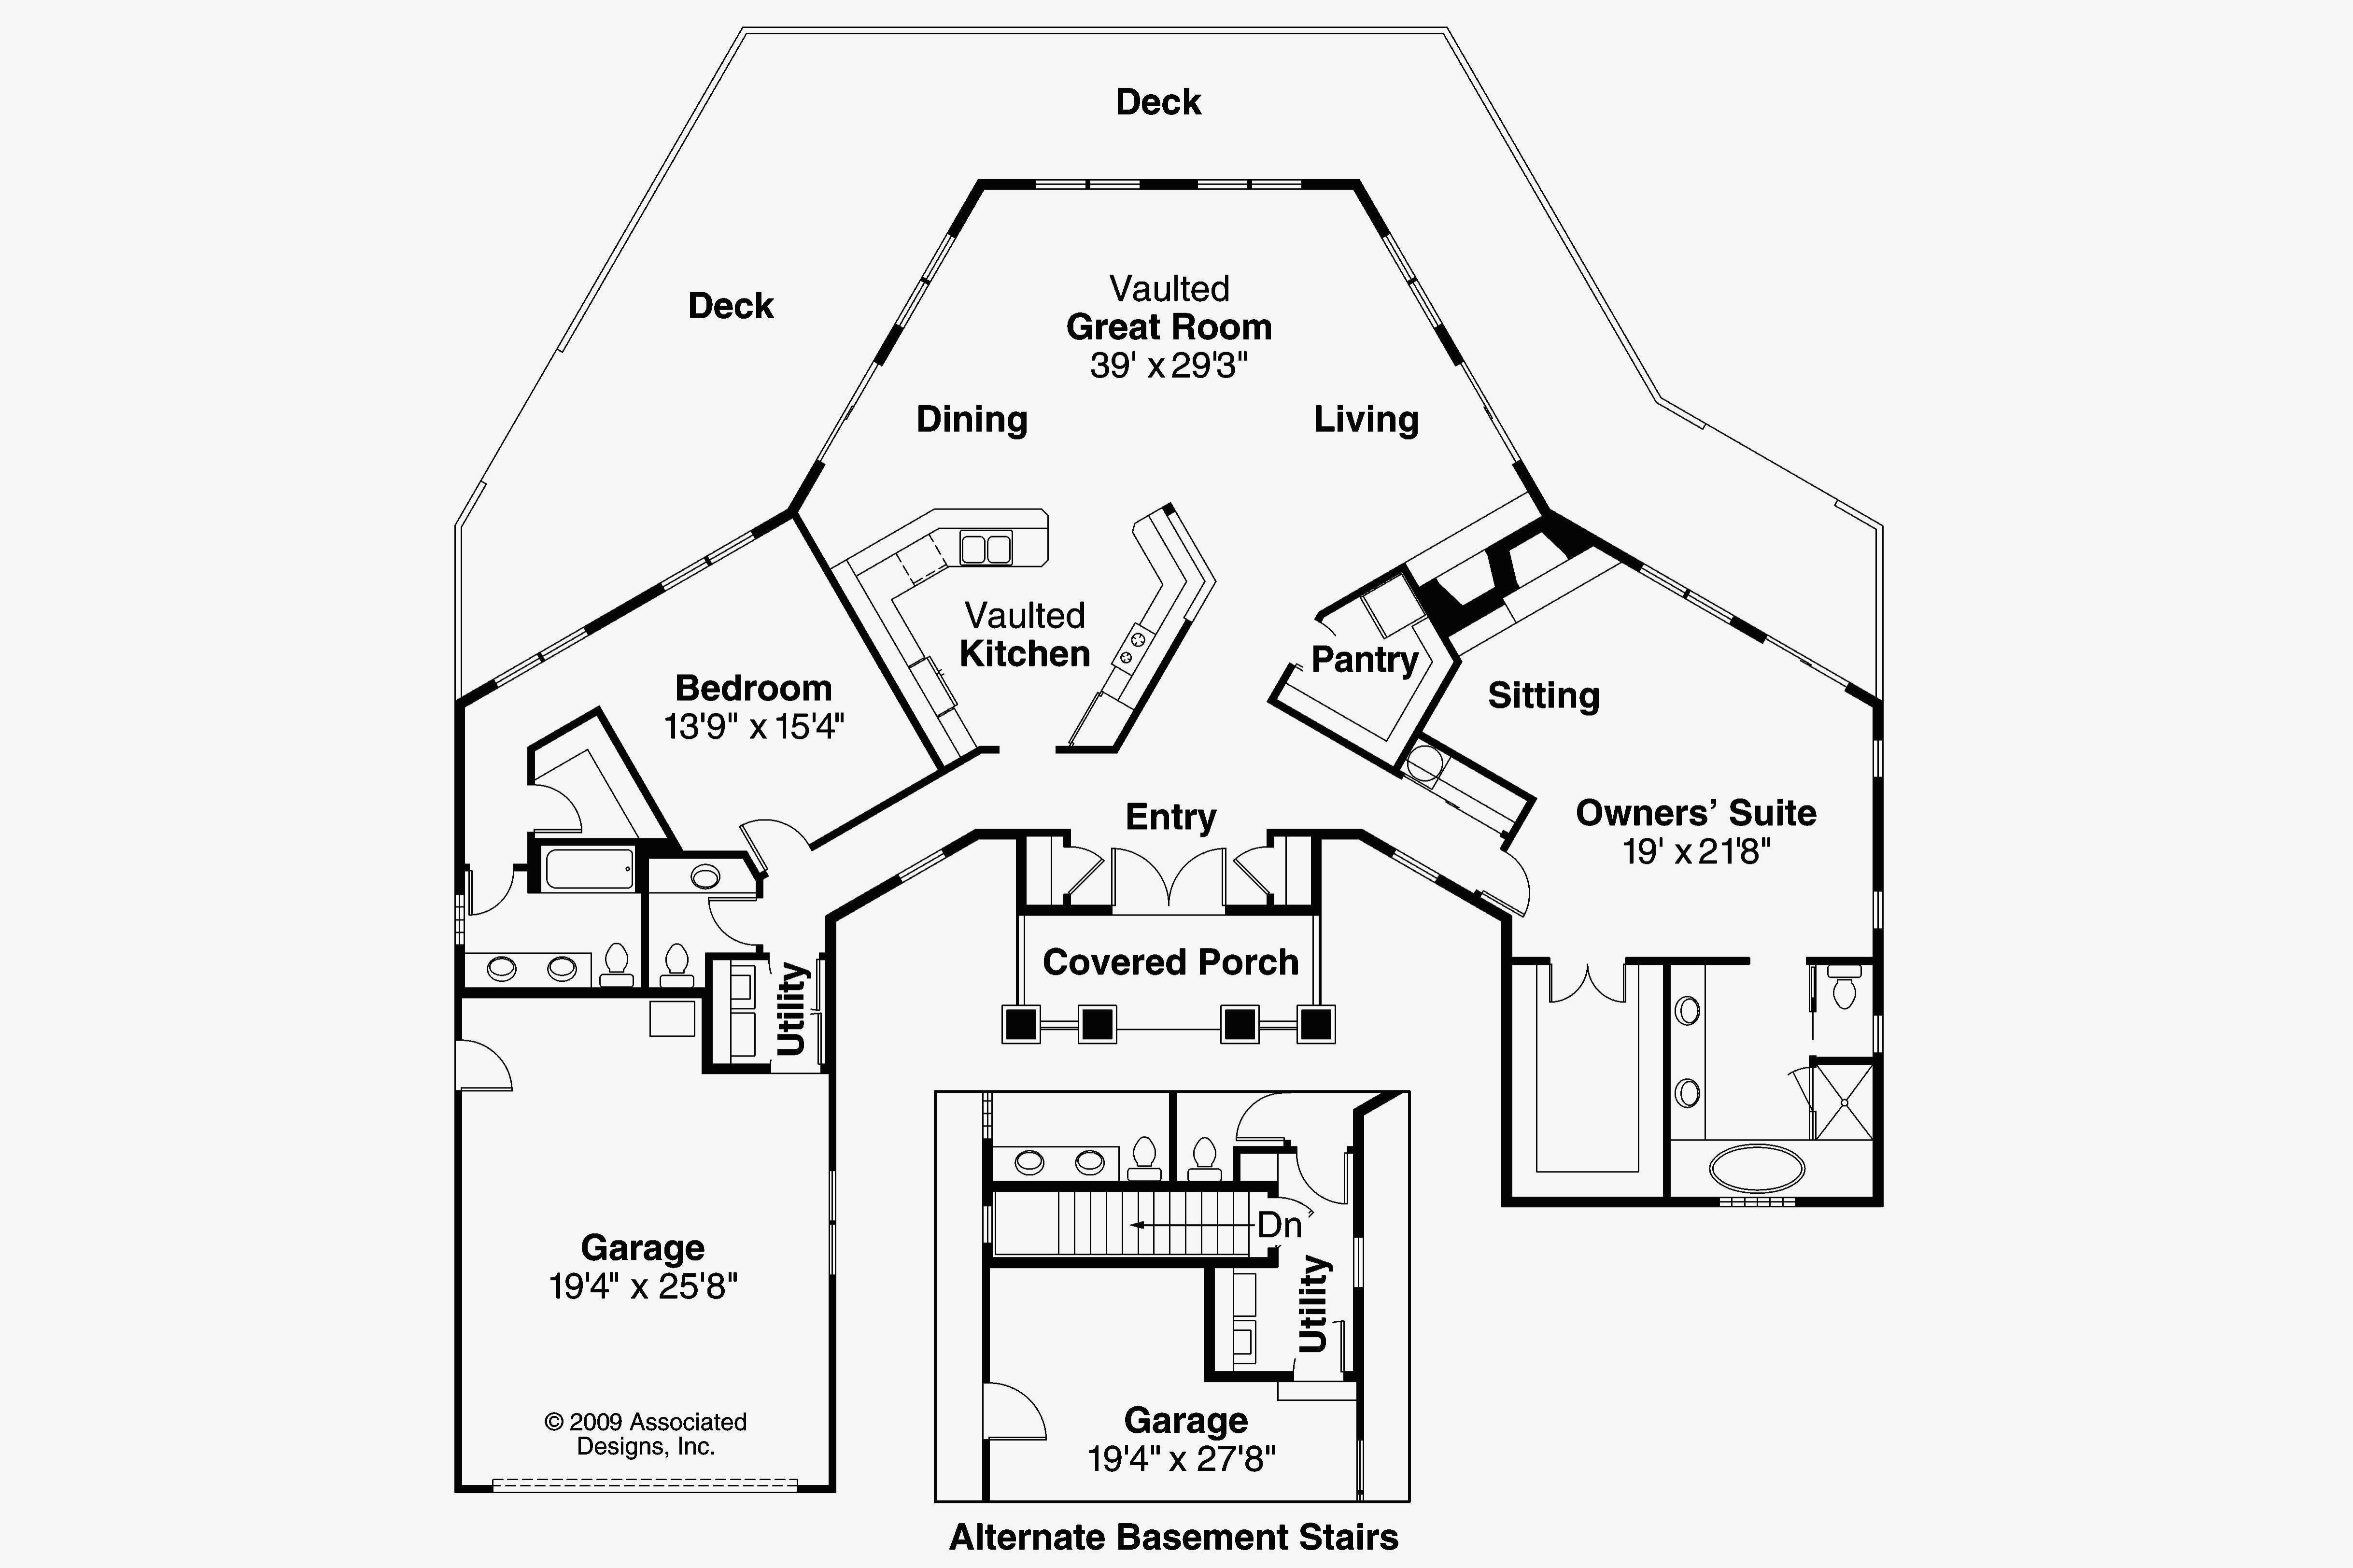window: (1636, 562, 1737, 623), (1197, 175, 1305, 191), (1034, 178, 1142, 192), (1352, 1235, 1366, 1293), (1872, 738, 1884, 777)
